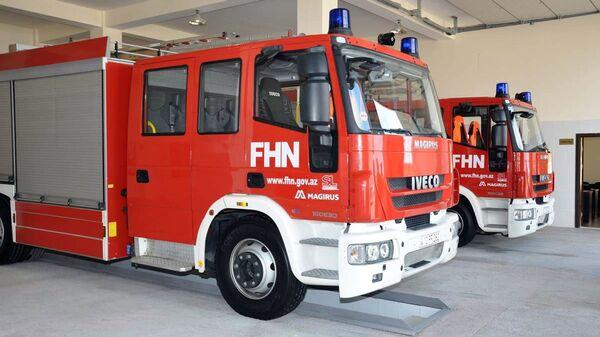Fire-engine: (7, 35, 462, 301)
